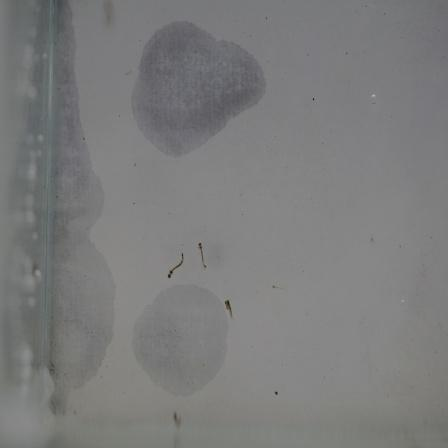Jentik-Nyamuk: (165, 249, 187, 284), (194, 239, 212, 272), (219, 294, 237, 323)
